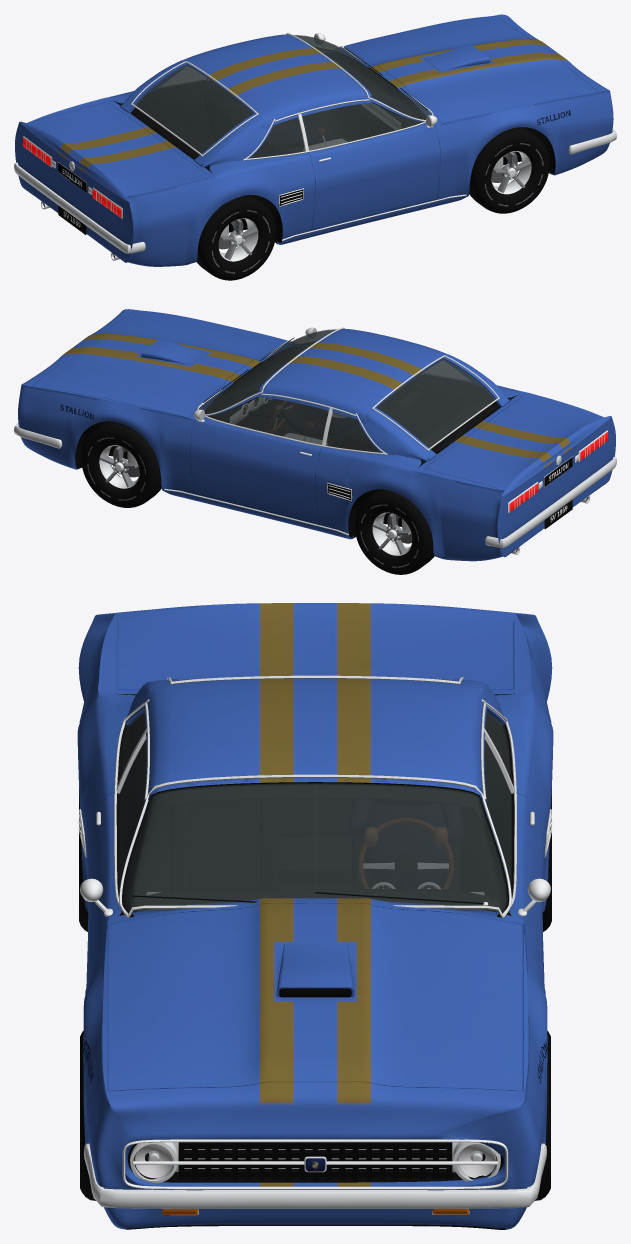
File: sv_stallion.glb
3 renders of one model, top to bottom at view 1: azimuth 30°, elevation 25°; view 2: azimuth 150°, elevation 25°; view 3: azimuth 270°, elevation 25°, orthographic. The views are drawn at different scales.
Visible parts, largest first — view 1: body, glass, interior, tyre_FR, tyre_RR, window_R, driver, rim_RR, rim_FR, taillight_lens; view 2: body, glass, interior, tyre_FL, tyre_RL, window_L, driver, rim_RL, rim_FL, taillight_lens; view 3: body, glass, interior, driver, window_R, window_L, steering_wheel, tyre_FL, tyre_FR.
Part boxes in pixels (<box>): body: <box>14,14,616,266</box>; glass: <box>135,35,431,158</box>; interior: <box>132,45,419,159</box>; tyre_FR: <box>469,127,549,213</box>; tyre_RR: <box>196,195,276,280</box>; window_R: <box>302,102,423,150</box>; driver: <box>222,92,331,147</box>; rim_RR: <box>219,218,258,261</box>; rim_FR: <box>491,151,531,194</box>; taillight_lens: <box>23,137,121,217</box>; body: <box>14,309,616,561</box>; glass: <box>199,329,495,452</box>; interior: <box>211,342,498,453</box>; tyre_FL: <box>81,421,161,507</box>; tyre_RL: <box>354,489,434,574</box>; window_L: <box>207,397,328,444</box>; driver: <box>275,405,361,447</box>; rim_RL: <box>372,512,411,555</box>; rim_FL: <box>99,445,139,488</box>; taillight_lens: <box>509,432,607,511</box>; body: <box>77,603,553,1229</box>; glass: <box>119,679,511,1179</box>; interior: <box>131,785,499,909</box>; driver: <box>348,799,463,888</box>; window_R: <box>119,739,146,884</box>; window_L: <box>484,739,511,884</box>; steering_wheel: <box>358,818,453,889</box>; tyre_FL: <box>535,1031,550,1200</box>; tyre_FR: <box>80,1031,95,1200</box>.
Bounding box in the file's own units: 4.75 × 1.37 × 1.97.
12 materials, 7 textured.
